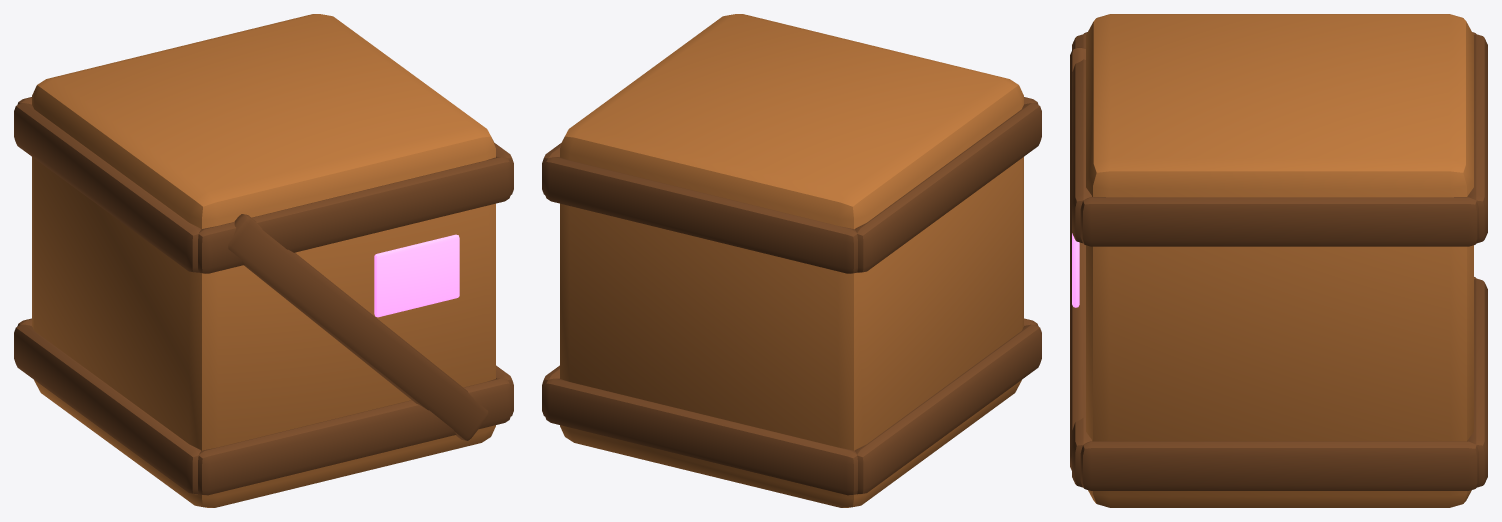
Rendered from W1_Crate_A.fbx.
3 views of the same model, side by side, from view 1: azimuth 30°, elevation 25°; view 2: azimuth 150°, elevation 25°; view 3: azimuth 270°, elevation 25° (orthographic). The views are drawn at different scales.
Visible parts, largest first — view 1: W1_Crate_A; view 2: W1_Crate_A; view 3: W1_Crate_A.
Part boxes in pixels (x1,y1,x2,y2): W1_Crate_A: (14,14,513,507); W1_Crate_A: (542,14,1041,507); W1_Crate_A: (1070,14,1487,507).
Size of the model in its own units: 1.08 by 1 by 1.08.
